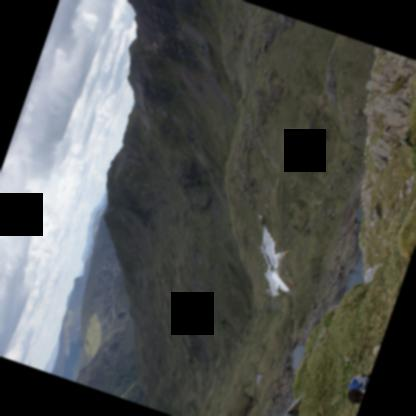backpack: (349, 372, 371, 390)
